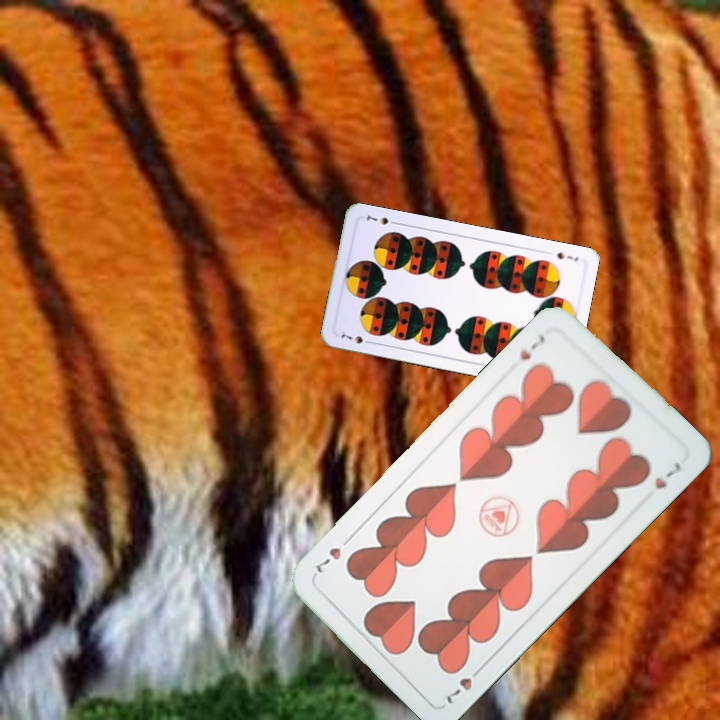H7: (442, 661, 487, 707), (515, 331, 548, 364)
S7: (337, 327, 375, 346), (553, 248, 581, 264)
